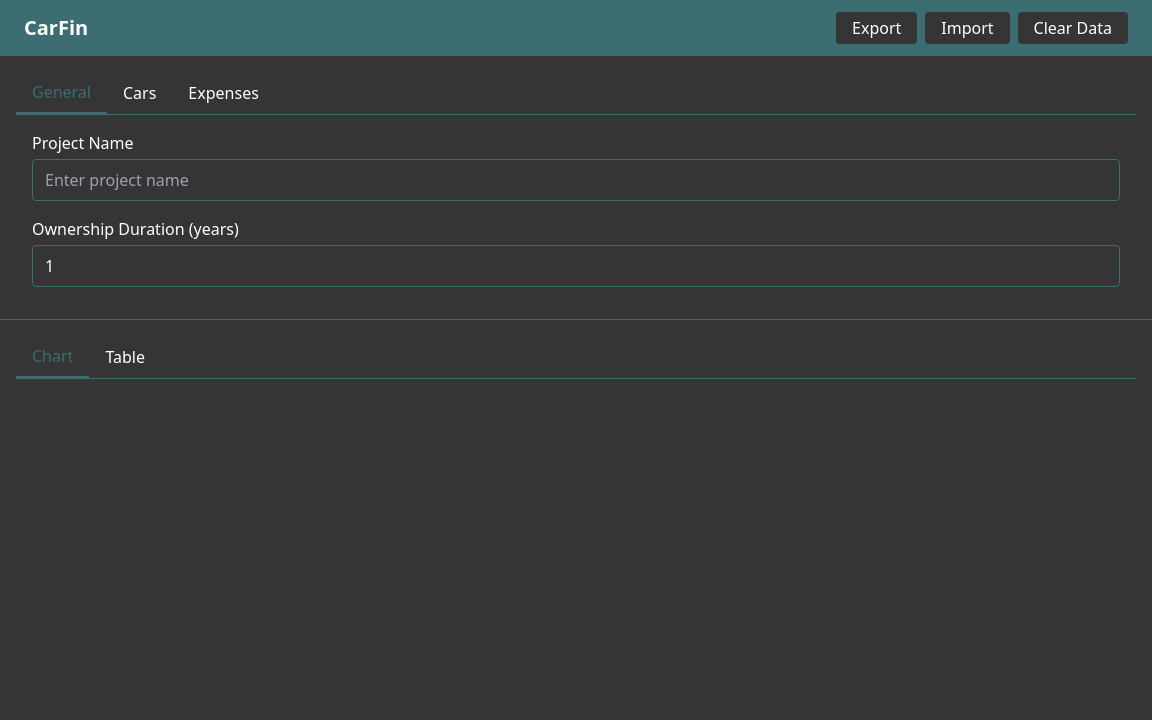
it: switches result tab on click
The width and height of the screenshot is (1152, 720).
Click the button "Table".
click(125, 357)  # box [89, 336, 161, 378]
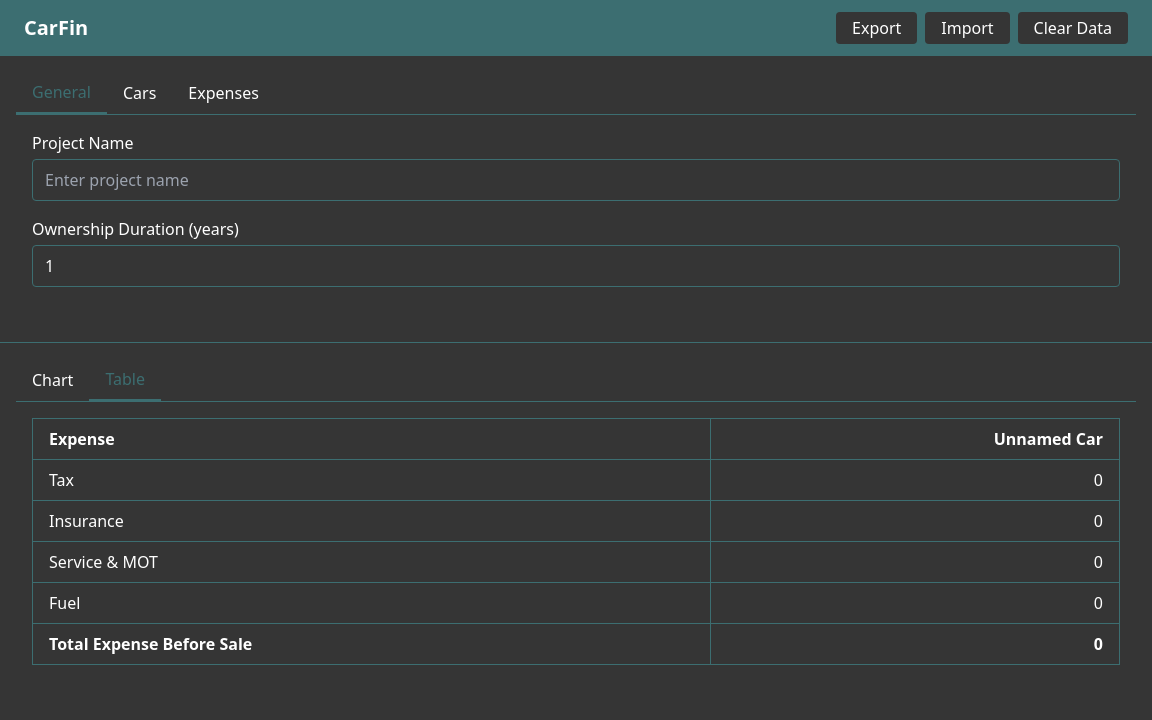
Now the text "Total Expense Before Sale" is shown, box [32, 624, 711, 664]
